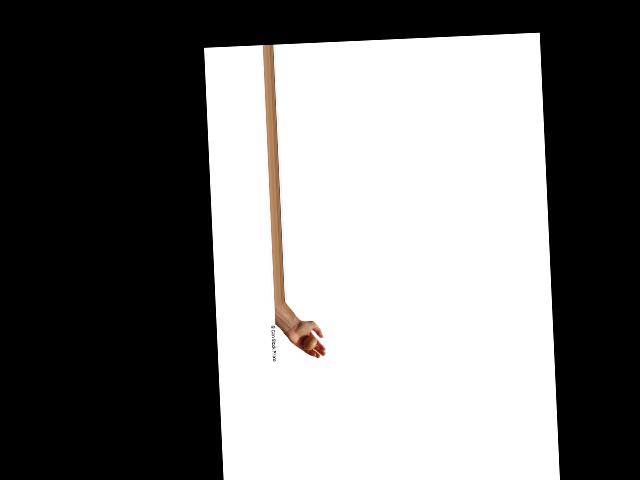egg: (302, 337, 316, 351)
